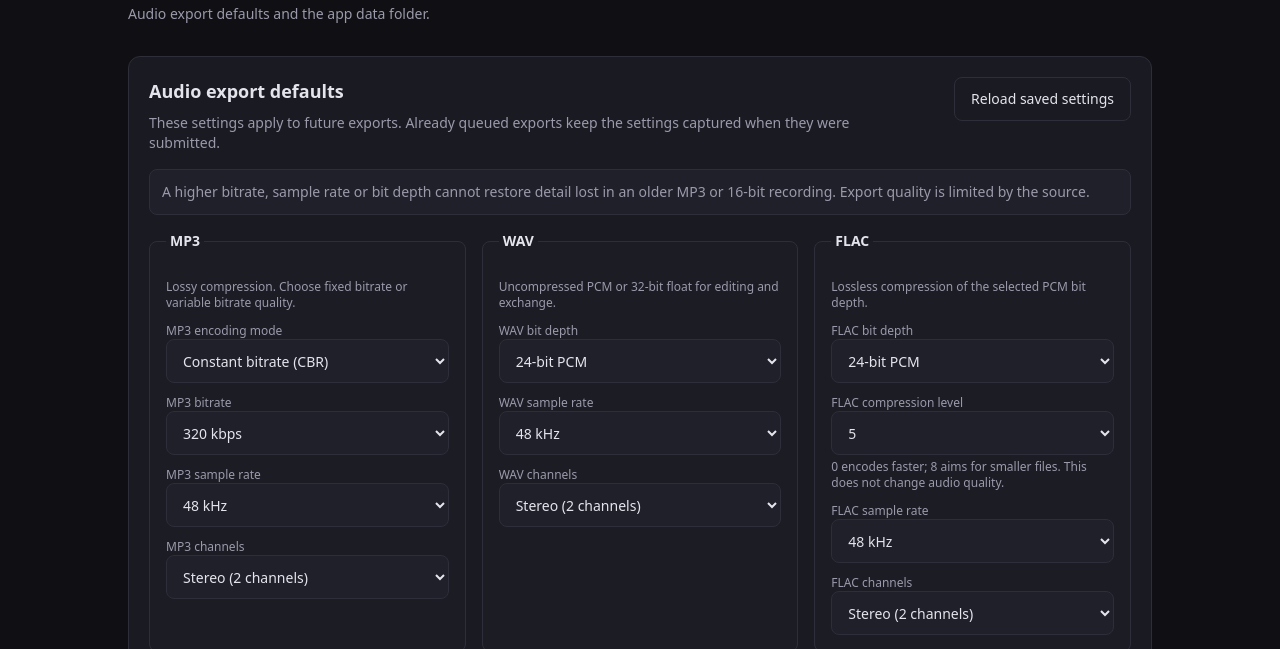
Test case: blocks invalid runtime settings instead of submitting an unchecked draft
Select "Variable bitrate (VBR)" in the dropdown labelled "MP3 encoding mode" at (307, 361), box [166,339,449,383]
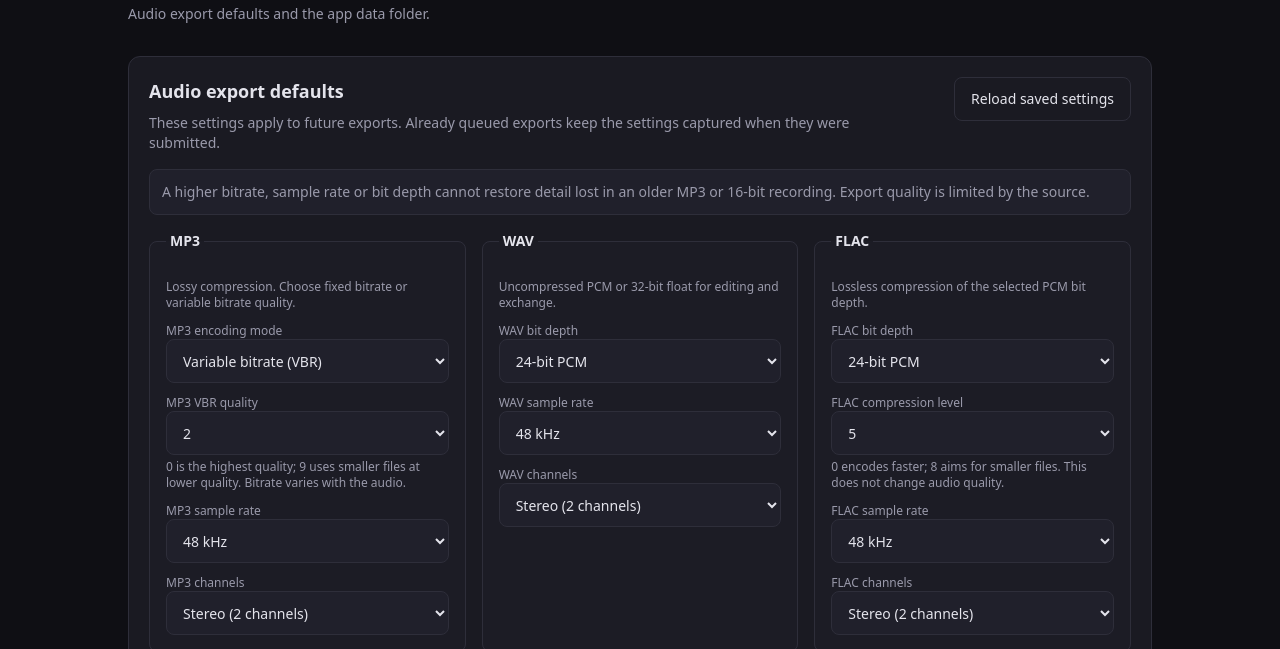
Select "Invalid" in the dropdown named "MP3 VBR quality" at (307, 433), box [166,411,449,455]
(page scrolled)
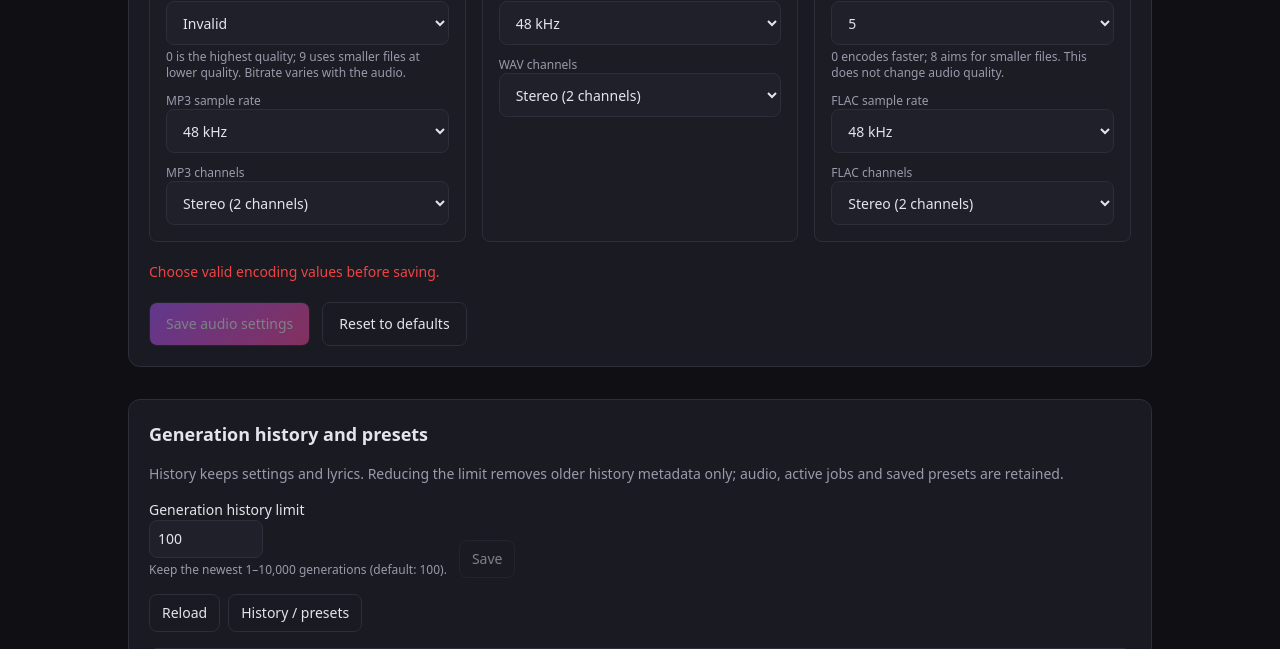
Result: the button "Save audio settings" is disabled at [149,302,310,346]
Result: the text "Choose valid encoding values" is shown at [149,262,440,281]
